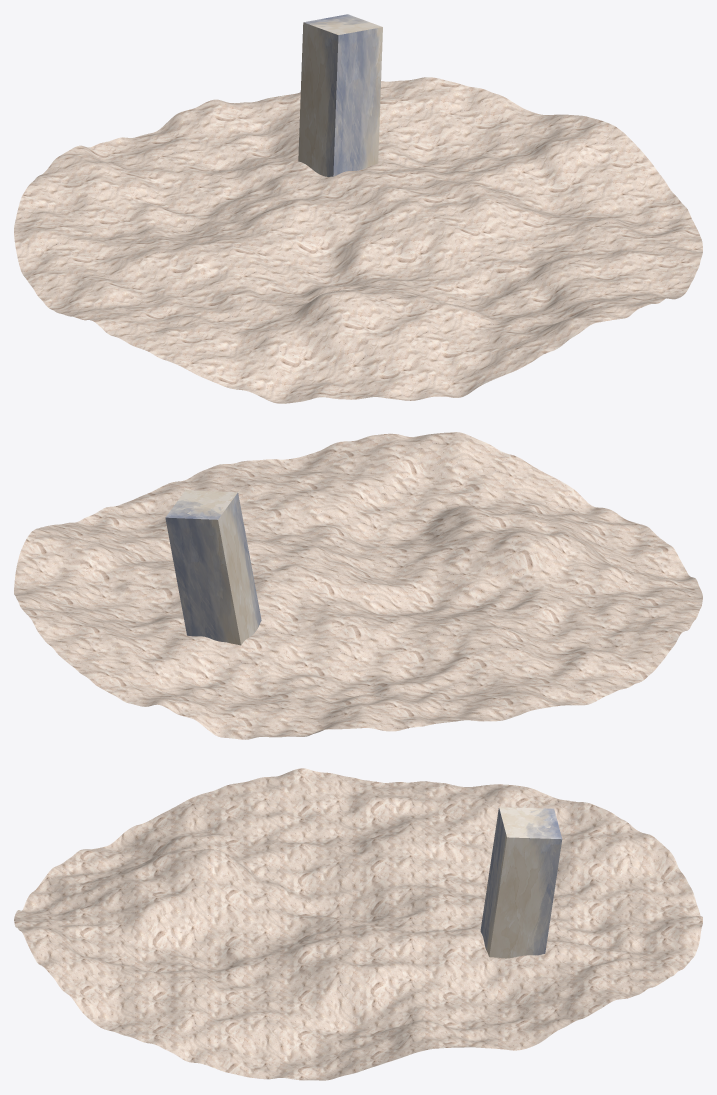
3 renders of one model, top to bottom at view 1: azimuth 30°, elevation 25°; view 2: azimuth 150°, elevation 25°; view 3: azimuth 270°, elevation 25°, orthographic.
Visible parts, largest first — view 1: Cylinder, Cube; view 2: Cylinder, Cube; view 3: Cylinder, Cube.
Boxes of the visible parts, x1,y1,x2,y2 form: Cylinder: (14,77,702,403); Cube: (298,14,382,176); Cylinder: (14,432,702,739); Cube: (165,490,261,645); Cylinder: (14,768,702,1080); Cube: (480,807,562,958).
Bounding box in the file's own units: 25.47 × 6.71 × 25.47.
2 materials, 2 textured.
